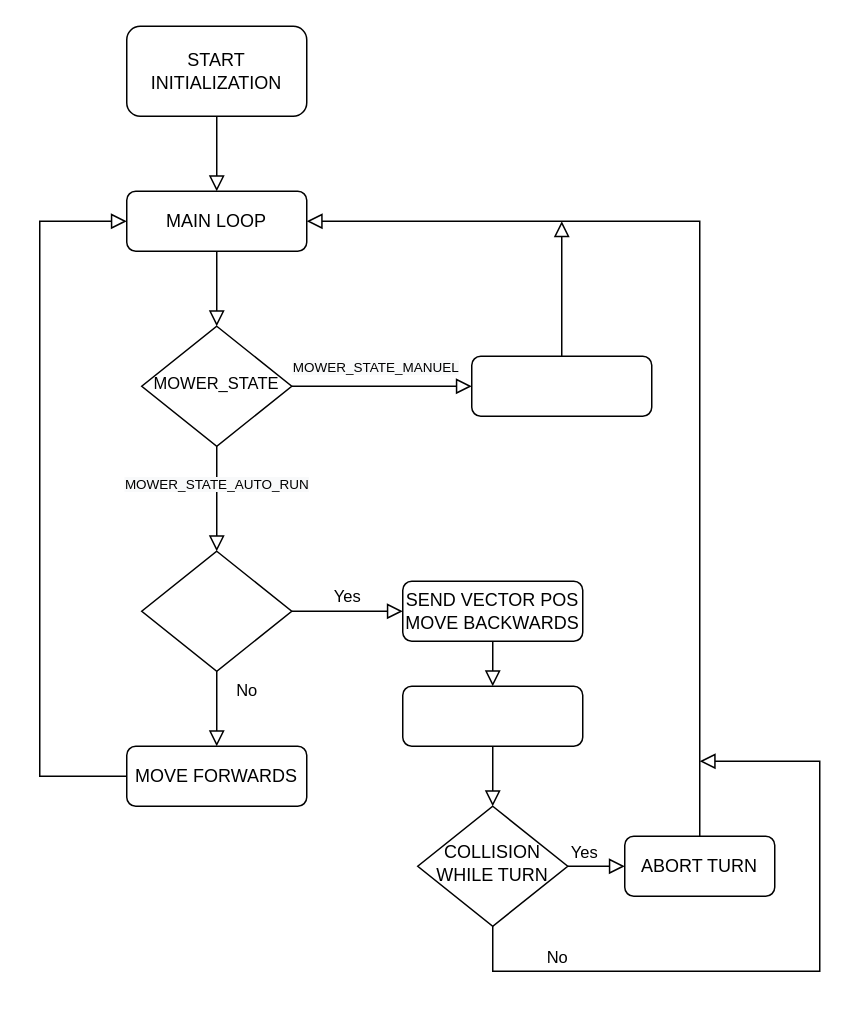
Some shapes in this 861 by 1013 pixel diagram are drawn without their labels. Here are the shapes that lost their labels. From the top down, the centre of each, then its label:
At [561,385]: "APP DRIVING".
At [216,610]: "COLLISION".
At [492,715]: "SEND VECTOR POS TURN TO SIDE".
